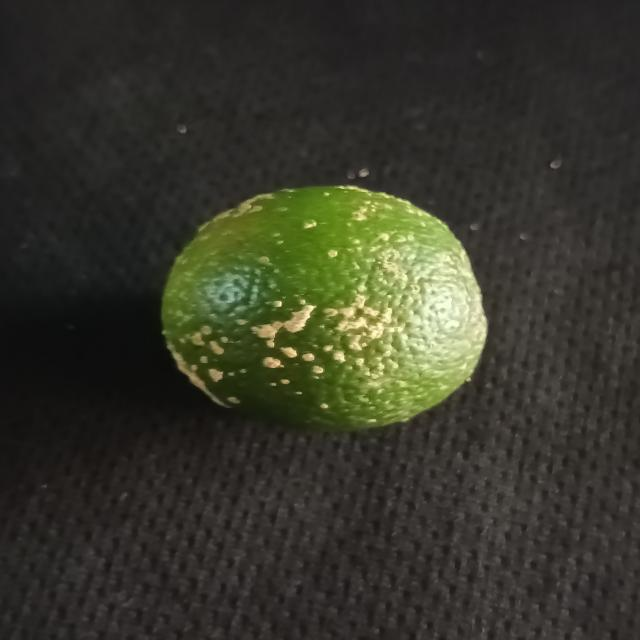scab: (149, 178, 492, 436)
